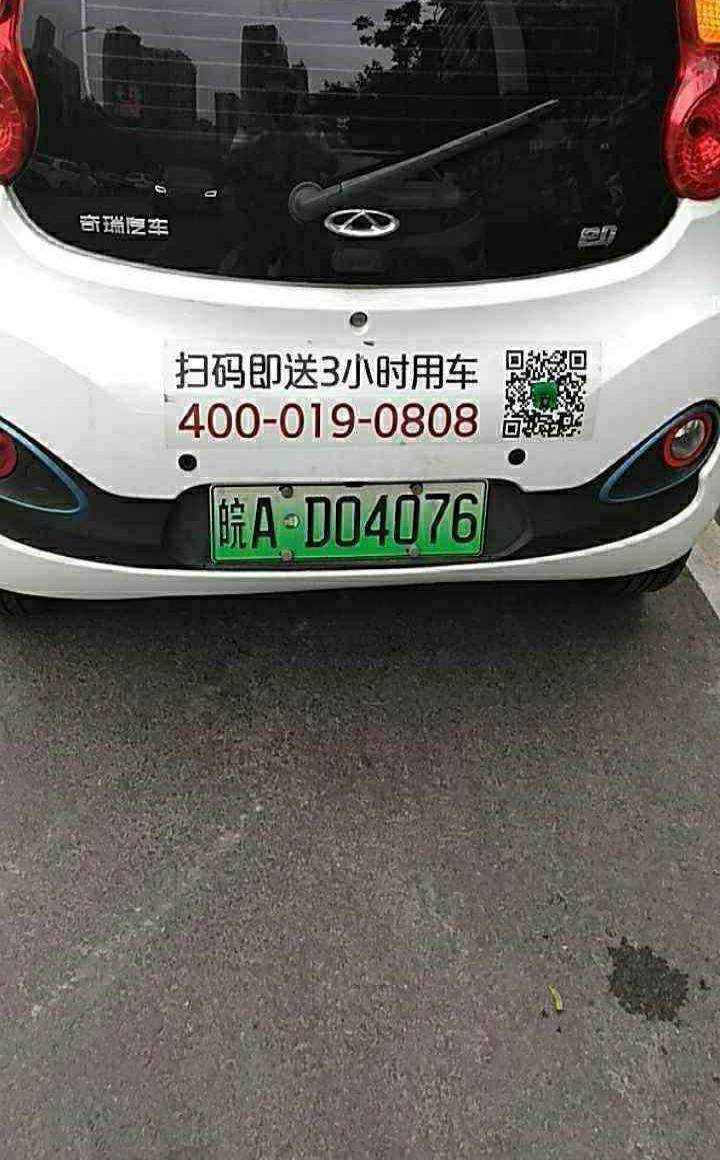car_id: (211, 482, 490, 559)
